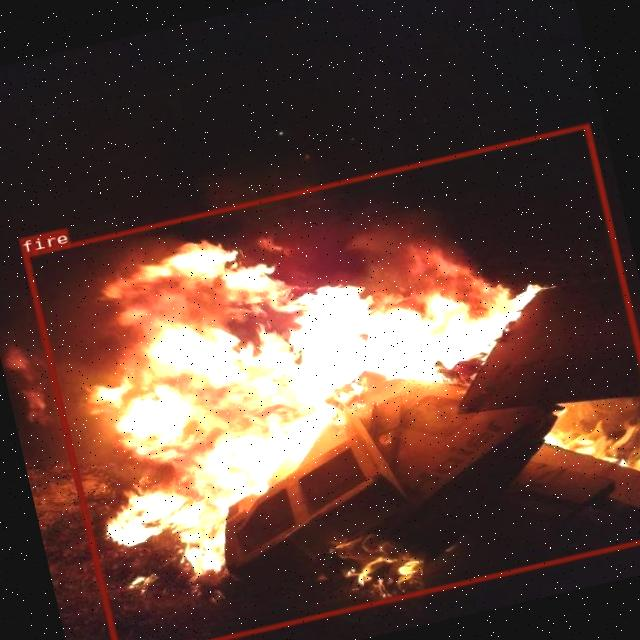fire: (22, 122, 640, 640)
